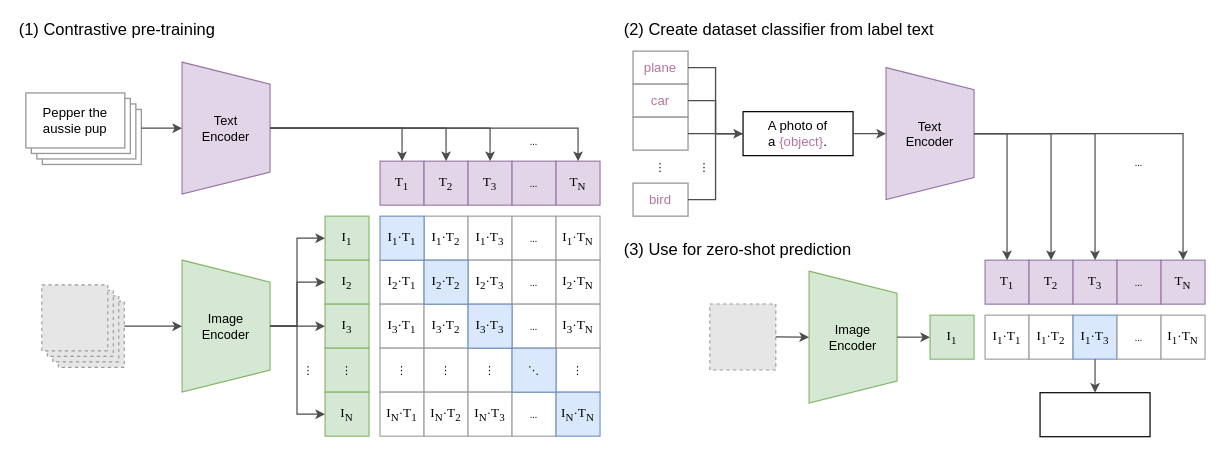
The diagram is 1224 pixels wide and 457 high, and some of its shapes have lost their labels. Grey dashed boxes stand in for pictures. The centre of each missing label's shape, as x and y in pixels:
"A photo of a dog ." belongs at [1094,414].
"dog" belongs at [660,133].
